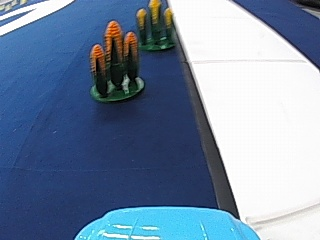corn: (87, 18, 144, 103), (133, 1, 175, 50)
